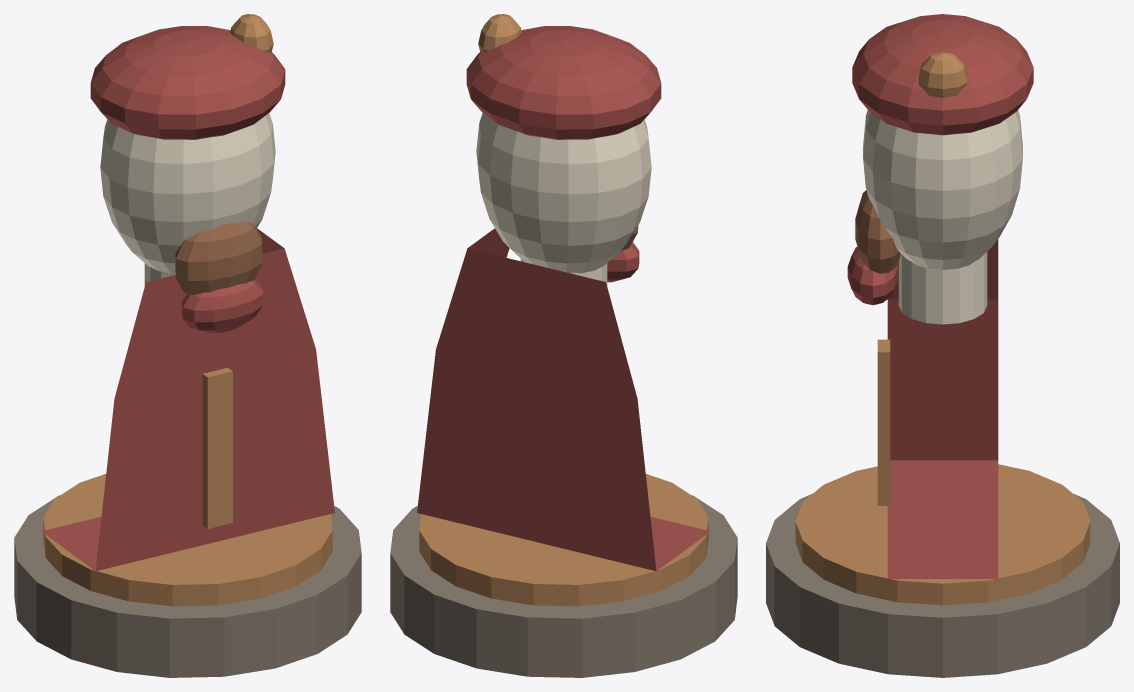
The model's file is tararani.glb.
3 renders of one model, left to right at view 1: azimuth 30°, elevation 25°; view 2: azimuth 150°, elevation 25°; view 3: azimuth 270°, elevation 25°, orthographic.
Parts seen in each view (by area): view 1: Tararani; view 2: Tararani; view 3: Tararani.
Boxes of the visible parts, left/top/right/bottom form: Tararani: left=14, top=14, right=361, bottom=677; Tararani: left=390, top=14, right=737, bottom=677; Tararani: left=766, top=14, right=1119, bottom=677.
Size of the model in its own units: 0.96 by 1.74 by 0.96.
